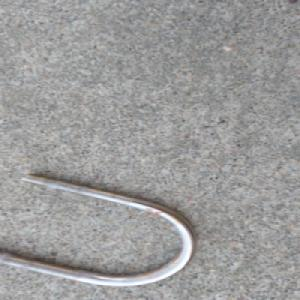ClampPart: (0, 171, 200, 288)
